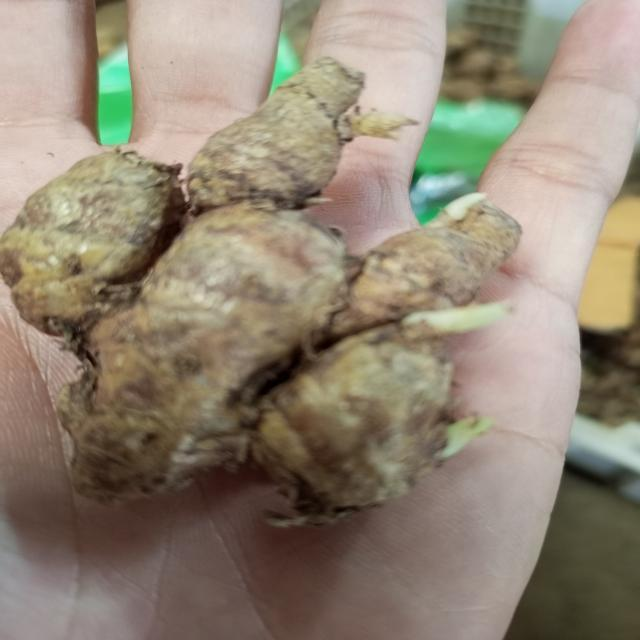ginger: (14, 66, 509, 517)
